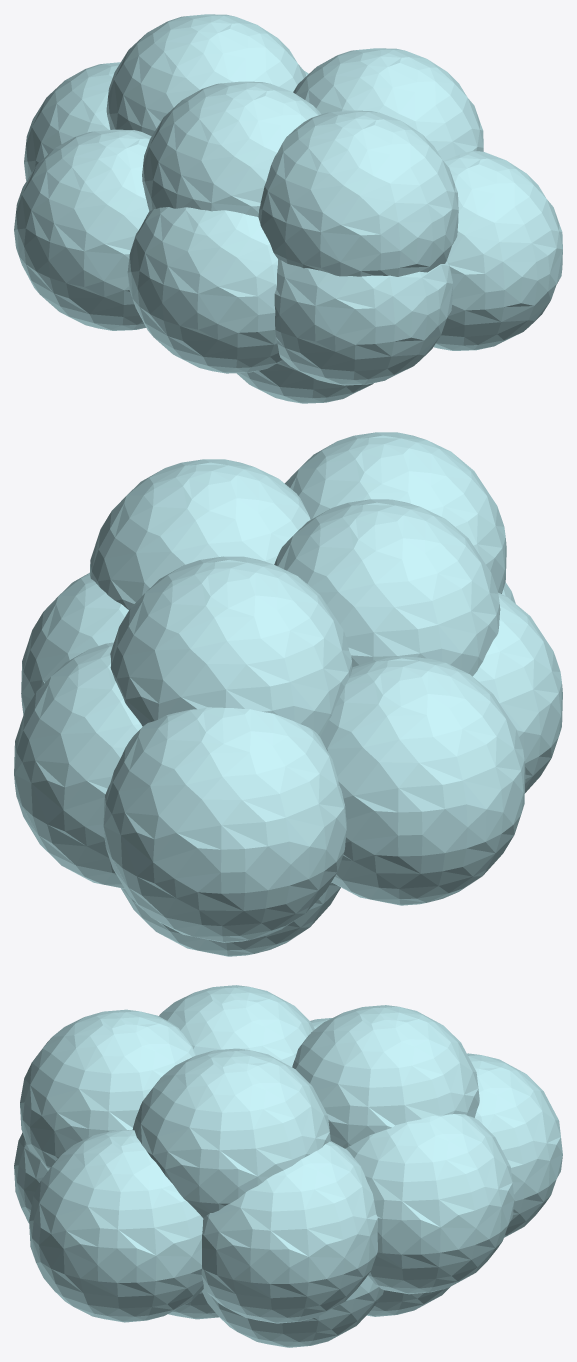
The model's file is Cloud1.gltf.
The picture shows the model from 3 angles, top to bottom: view 1: azimuth 30°, elevation 25°; view 2: azimuth 150°, elevation 25°; view 3: azimuth 270°, elevation 25°; orthographic projection. The views are drawn at different scales.
Parts seen in each view (by area): view 1: Sphere013, Sphere011, Sphere010, Sphere006, Sphere012, Sphere014, Sphere008, Sphere007, Sphere005, Sphere018; view 2: Sphere005, Sphere010, Sphere008, Sphere014, Sphere007, Sphere002, Sphere013, Sphere011, Sphere001, Sphere016; view 3: Sphere006, Sphere001, Sphere002, Sphere007, Sphere008, Sphere013, Sphere005, Sphere014, Sphere017, Sphere012, Sphere016, Sphere018.
Part boxes in pixels (x1=…): Sphere013: x1=258, y1=110, x2=458, y2=276; Sphere011: x1=127, y1=207, x2=282, y2=373; Sphere010: x1=14, y1=129, x2=151, y2=330; Sphere006: x1=433, y1=151, x2=562, y2=350; Sphere012: x1=274, y1=259, x2=452, y2=385; Sphere014: x1=142, y1=81, x2=321, y2=216; Sphere008: x1=106, y1=14, x2=306, y2=136; Sphere007: x1=293, y1=48, x2=483, y2=160; Sphere005: x1=24, y1=62, x2=120, y2=180; Sphere018: x1=237, y1=360, x2=373, y2=403; Sphere005: x1=103, y1=707, x2=346, y2=942; Sphere010: x1=320, y1=656, x2=525, y2=905; Sphere008: x1=110, y1=556, x2=352, y2=736; Sphere014: x1=274, y1=499, x2=500, y2=676; Sphere007: x1=90, y1=459, x2=310, y2=609; Sphere002: x1=14, y1=642, x2=142, y2=888; Sphere013: x1=285, y1=432, x2=506, y2=593; Sphere011: x1=473, y1=592, x2=562, y2=792; Sphere001: x1=21, y1=572, x2=128, y2=714; Sphere016: x1=121, y1=882, x2=340, y2=956; Sphere006: x1=29, y1=1129, x2=203, y2=1322; Sphere001: x1=201, y1=1141, x2=377, y2=1323; Sphere002: x1=345, y1=1114, x2=514, y2=1294; Sphere007: x1=132, y1=1048, x2=330, y2=1217; Sphere008: x1=292, y1=1005, x2=479, y2=1148; Sphere013: x1=20, y1=1009, x2=195, y2=1168; Sphere005: x1=467, y1=1053, x2=562, y2=1237; Sphere014: x1=159, y1=985, x2=314, y2=1066; Sphere017: x1=202, y1=1275, x2=383, y2=1347; Sphere012: x1=14, y1=1132, x2=49, y2=1222; Sphere016: x1=367, y1=1287, x2=449, y2=1316; Sphere018: x1=168, y1=1291, x2=218, y2=1319.
Bounding box in the file's own units: 351648 × 248632 × 420258.
